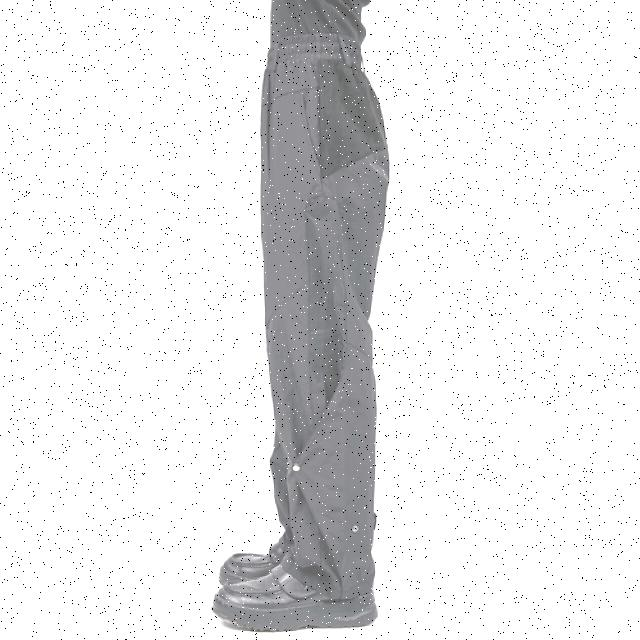dress: (261, 42, 382, 624)
